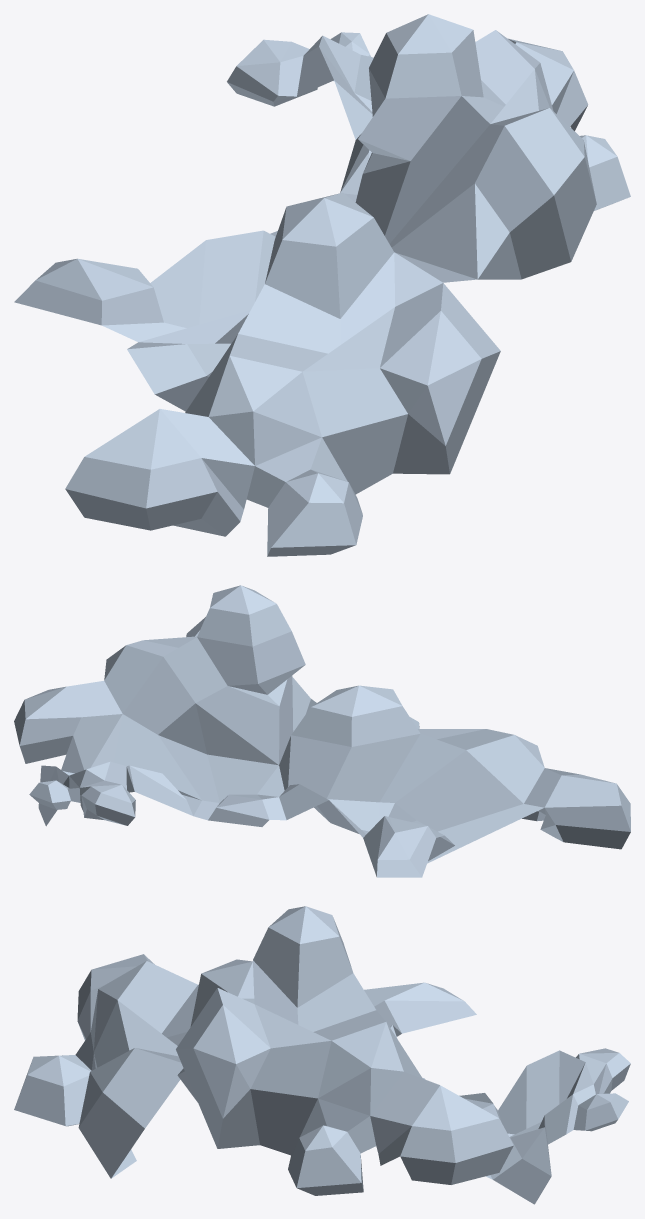
File: GROTE WOLK.fbx
The picture shows the model from 3 angles, top to bottom: view 1: azimuth 30°, elevation 25°; view 2: azimuth 150°, elevation 25°; view 3: azimuth 270°, elevation 25°; orthographic projection. The views are drawn at different scales.
Parts seen in each view (by area): view 1: pasted__pasted__pSphere20; view 2: pasted__pasted__pSphere20; view 3: pasted__pasted__pSphere20.
Boxes of the visible parts, x1,y1,x2,y2 form: pasted__pasted__pSphere20: [14, 14, 630, 556]; pasted__pasted__pSphere20: [14, 585, 630, 877]; pasted__pasted__pSphere20: [14, 906, 630, 1204].
Size of the model in its own units: 807 by 411 by 724.
